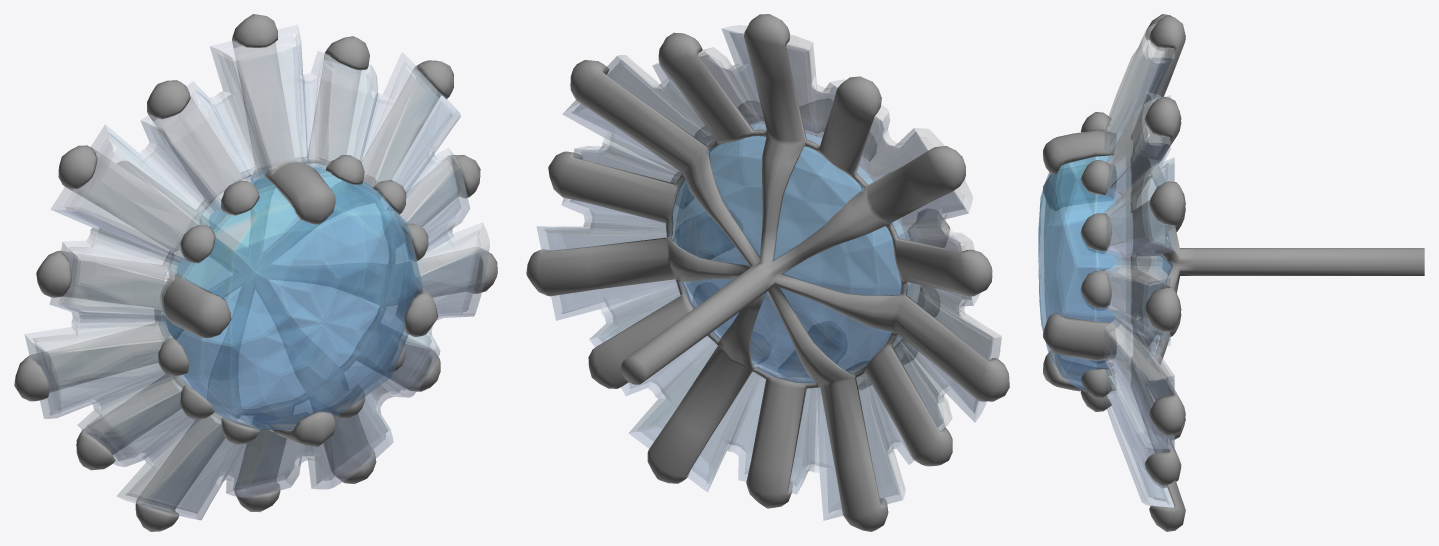
Rendered from earring_diamond.glb.
3 renders of one model, left to right at view 1: azimuth 30°, elevation 25°; view 2: azimuth 150°, elevation 25°; view 3: azimuth 270°, elevation 25°, orthographic. The views are drawn at different scales.
Parts seen in each view (by area): view 1: Object_4, Object_3, Object_2; view 2: Object_4, Object_3, Object_2; view 3: Object_4, Object_3, Object_2.
Part boxes in pixels (x1,y1,x2,y2): Object_4: [14, 14, 497, 531]; Object_3: [24, 25, 489, 520]; Object_2: [159, 163, 423, 429]; Object_4: [526, 14, 1009, 531]; Object_3: [536, 25, 1001, 520]; Object_2: [668, 123, 913, 383]; Object_4: [1043, 14, 1424, 531]; Object_3: [1103, 23, 1174, 507]; Object_2: [1038, 155, 1172, 389].
Bounding box in the file's own units: 1.89 × 1.86 × 1.39.
3 materials, 2 textured.
